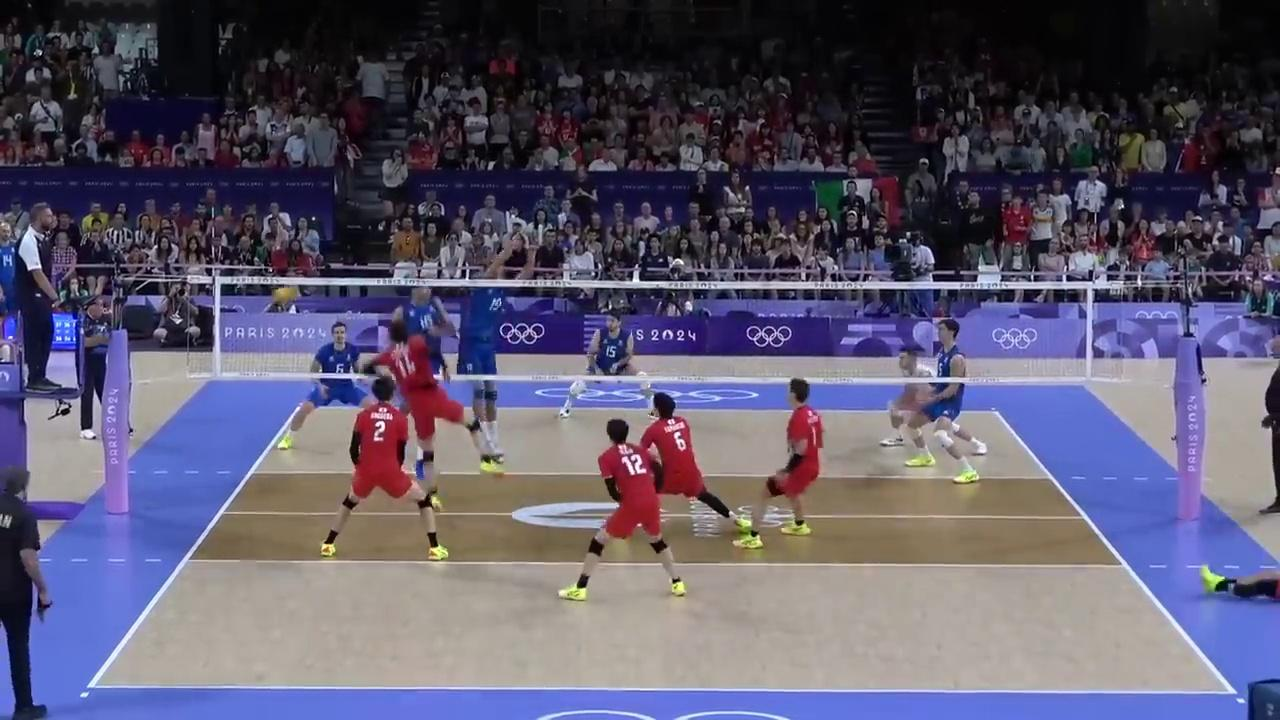ball: (273, 285, 303, 306)
